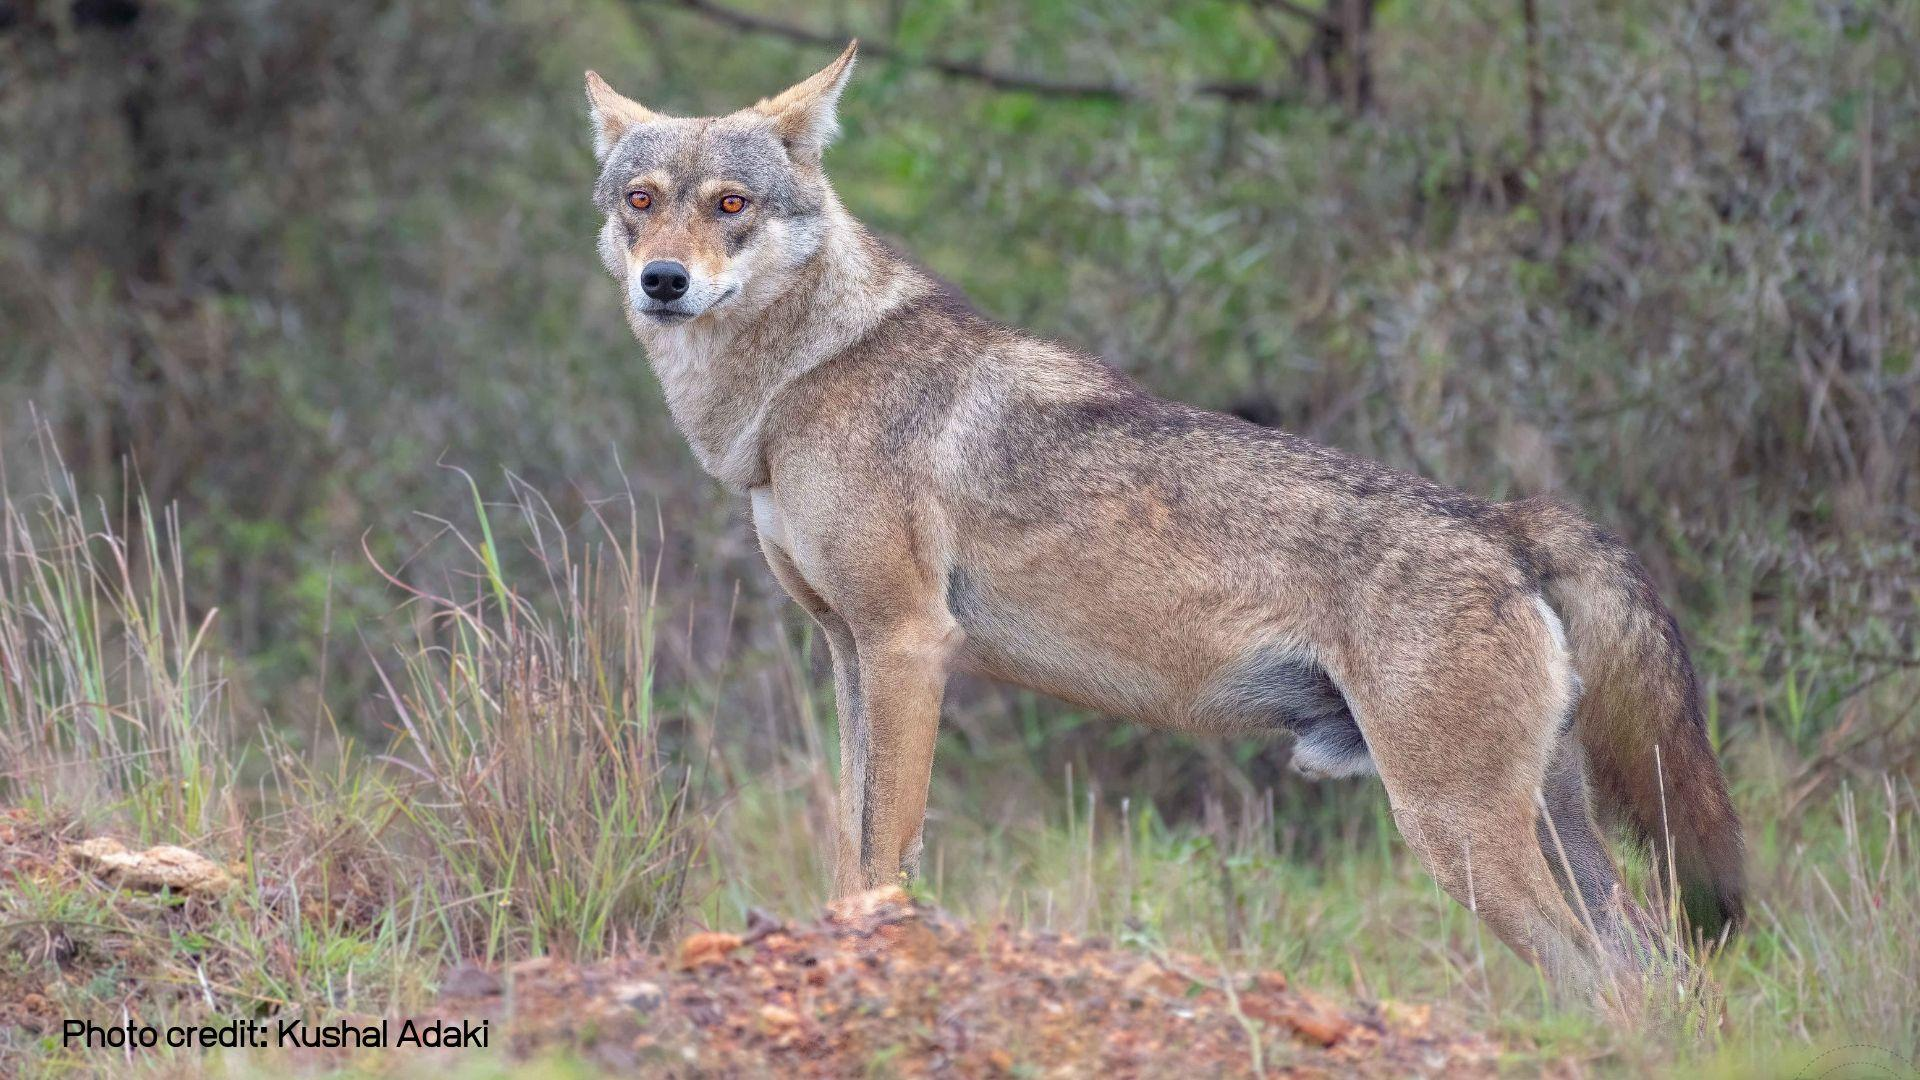Wolf: (575, 34, 1767, 1059)
